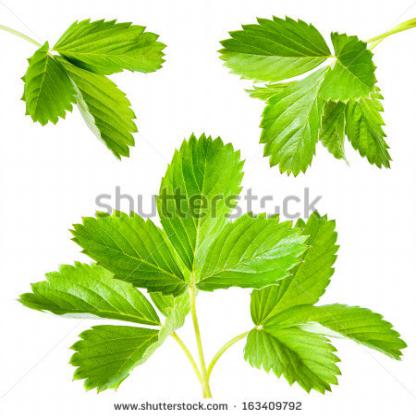strawberry leaf: (155, 127, 248, 271), (257, 208, 338, 340), (12, 262, 155, 334), (70, 208, 190, 293), (199, 205, 309, 295), (55, 52, 138, 158), (216, 9, 335, 81), (238, 327, 343, 399), (60, 12, 170, 76), (257, 67, 324, 171), (70, 320, 166, 389), (319, 22, 385, 104), (31, 34, 82, 124)
